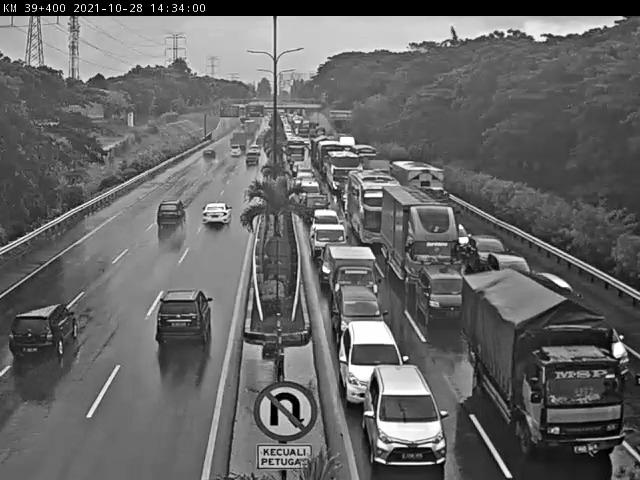big bus: (348, 171, 401, 247), (322, 151, 362, 193)
big truck: (468, 272, 621, 449), (380, 185, 459, 295)
car: (360, 367, 449, 467), (334, 322, 409, 404), (567, 304, 631, 379), (9, 305, 80, 358), (151, 288, 213, 348), (416, 262, 472, 328), (322, 246, 384, 304), (327, 286, 389, 343), (309, 222, 350, 264), (466, 235, 508, 270), (487, 253, 530, 281), (298, 194, 330, 224), (157, 199, 184, 230), (202, 202, 231, 228), (447, 220, 470, 251), (296, 178, 320, 199), (312, 208, 340, 226), (242, 154, 258, 173), (198, 149, 215, 165), (294, 167, 312, 182), (227, 145, 242, 161)
